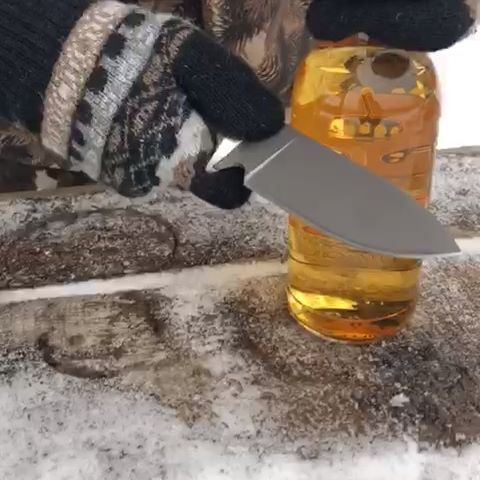knife: (206, 122, 462, 259)
